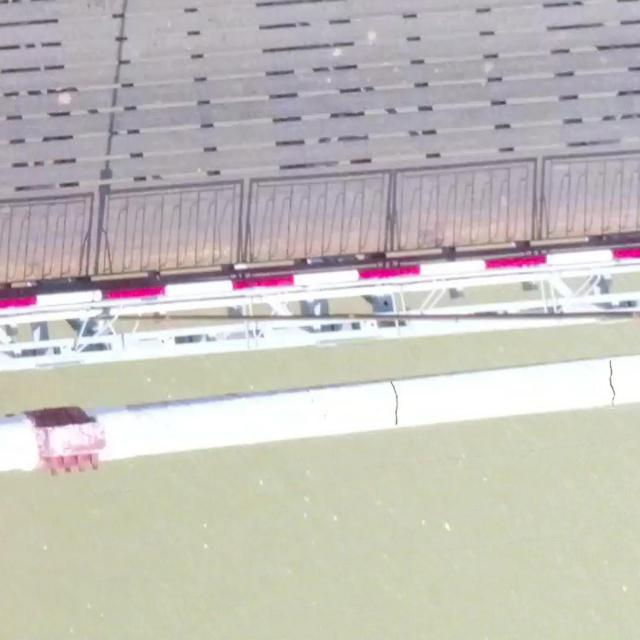crack: (390, 381, 399, 426), (608, 360, 616, 406)
